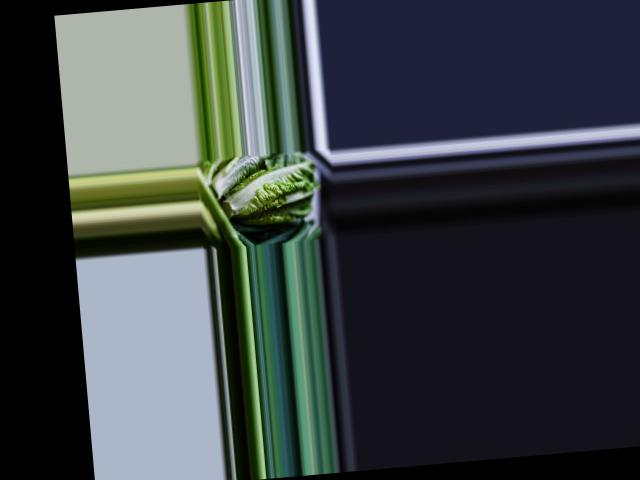lettuce: (218, 159, 321, 229)
